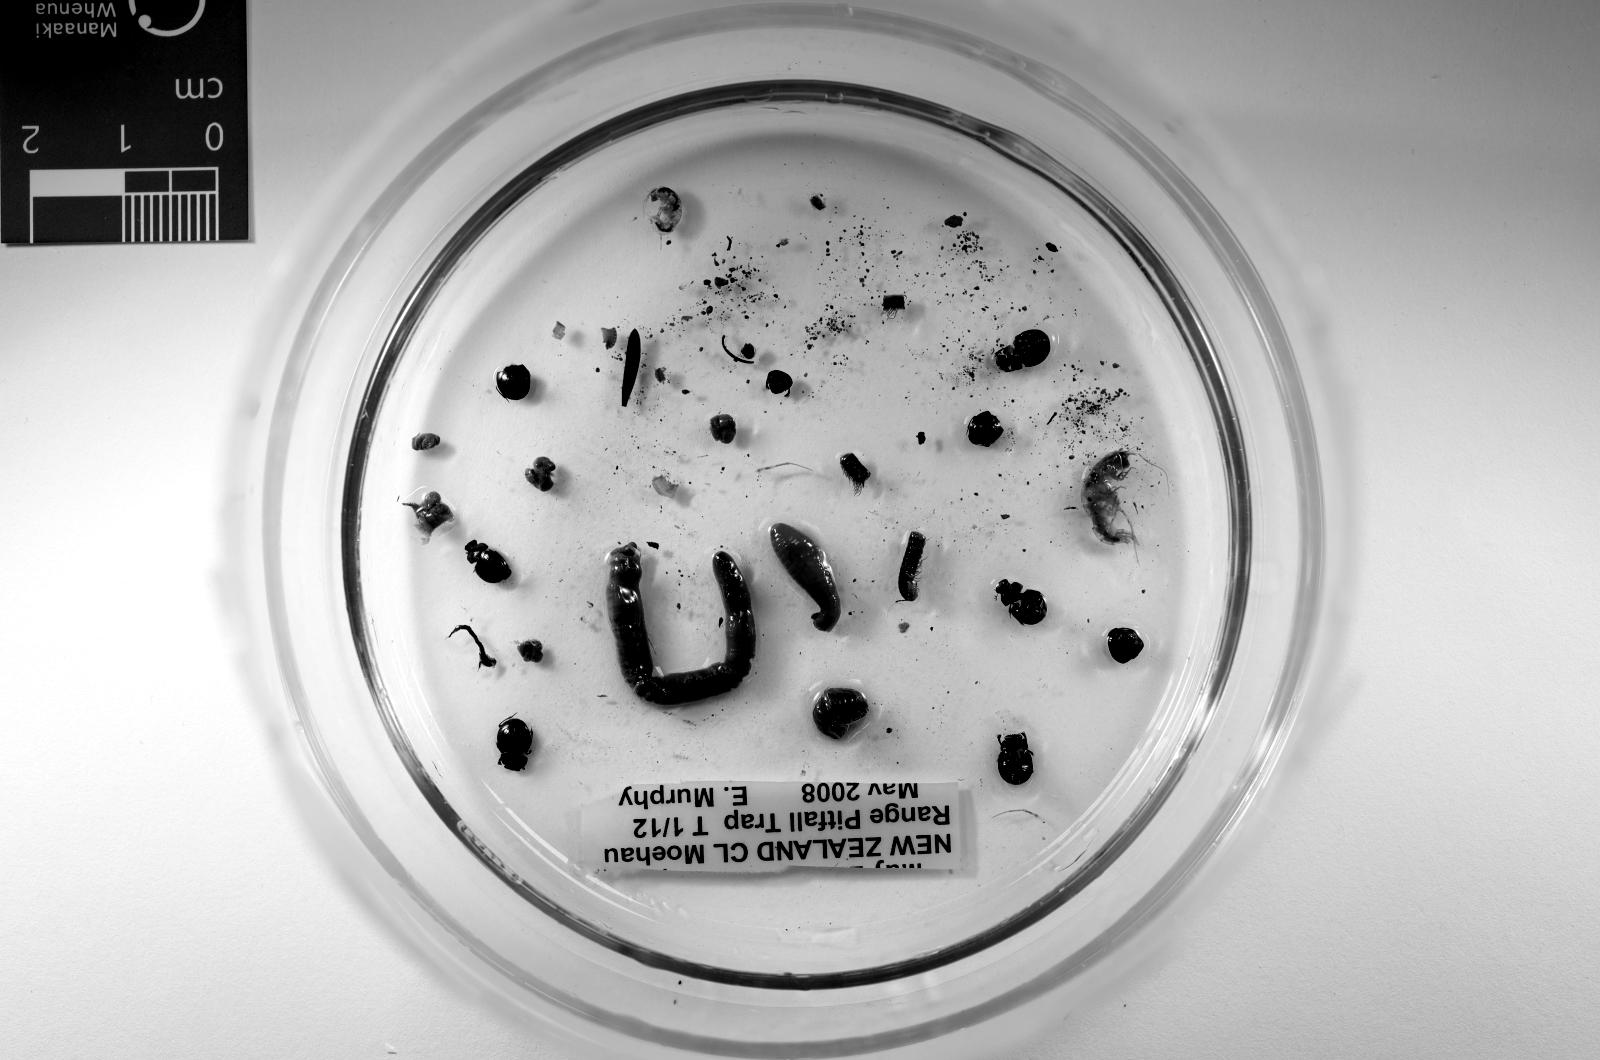amphipoda: (1081, 450, 1138, 543), (650, 186, 681, 233)
annelida: (606, 543, 756, 705)
coleoptera: (994, 329, 1050, 373), (997, 581, 1047, 624), (466, 540, 512, 584), (997, 733, 1034, 786), (497, 717, 531, 770)
isopoda: (812, 689, 869, 739)
